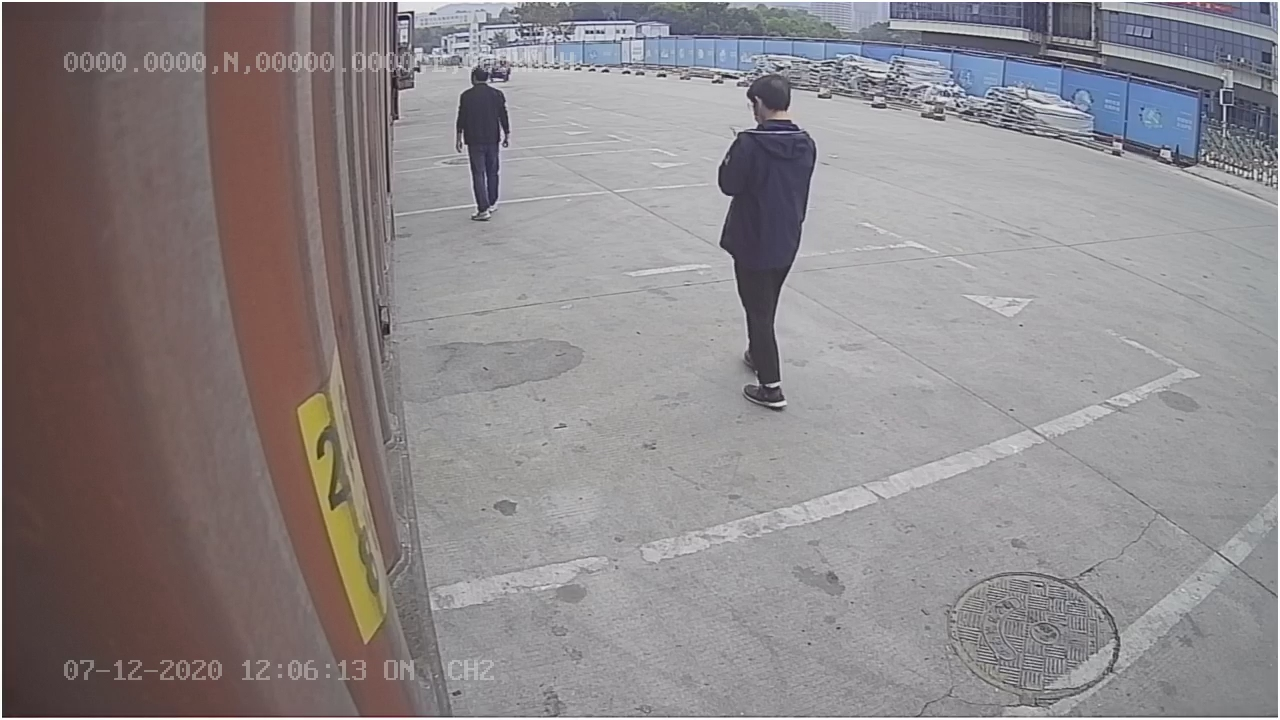person: (714, 62, 823, 412)
